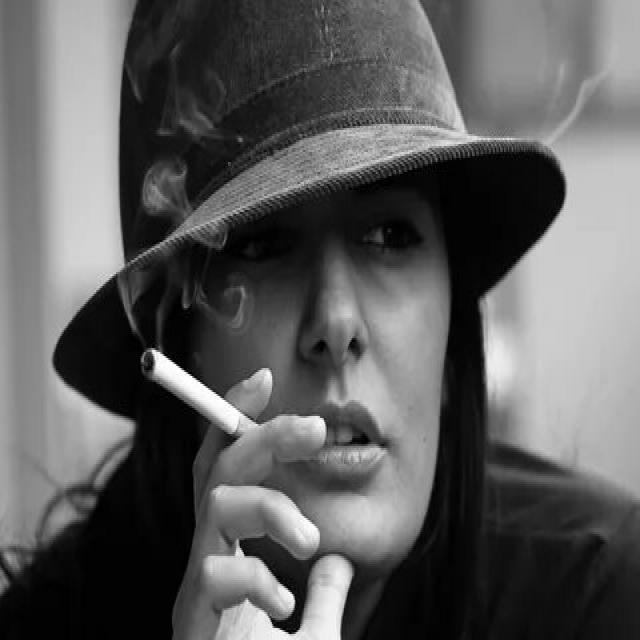smoke: (139, 340, 268, 450)
